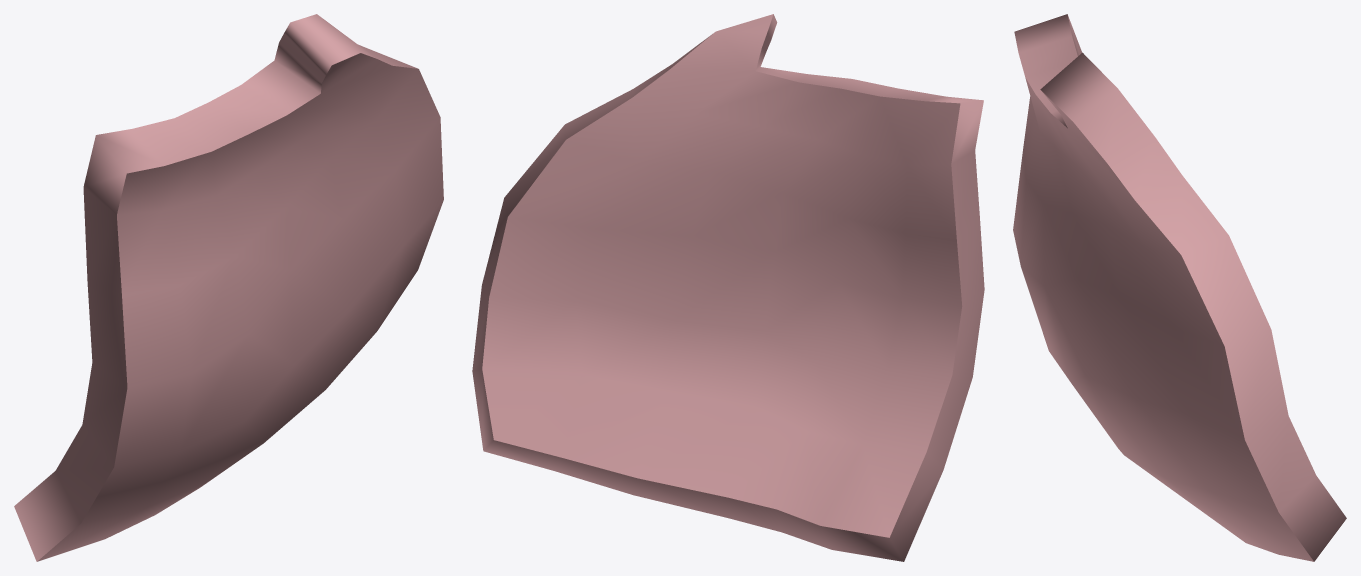
3 views of the same model, side by side, from view 1: azimuth 30°, elevation 25°; view 2: azimuth 150°, elevation 25°; view 3: azimuth 270°, elevation 25° (orthographic). The views are drawn at different scales.
Visible parts, largest first — view 1: ZA_d2ef49f74a3bbc00; view 2: ZA_d2ef49f74a3bbc00; view 3: ZA_d2ef49f74a3bbc00.
Boxes of the visible parts, bbox=[...] form: ZA_d2ef49f74a3bbc00: bbox=[14, 14, 443, 561]; ZA_d2ef49f74a3bbc00: bbox=[472, 14, 984, 561]; ZA_d2ef49f74a3bbc00: bbox=[1013, 14, 1346, 561].
Size of the model in its own units: 0.0254 by 0.0288 by 0.0178.
